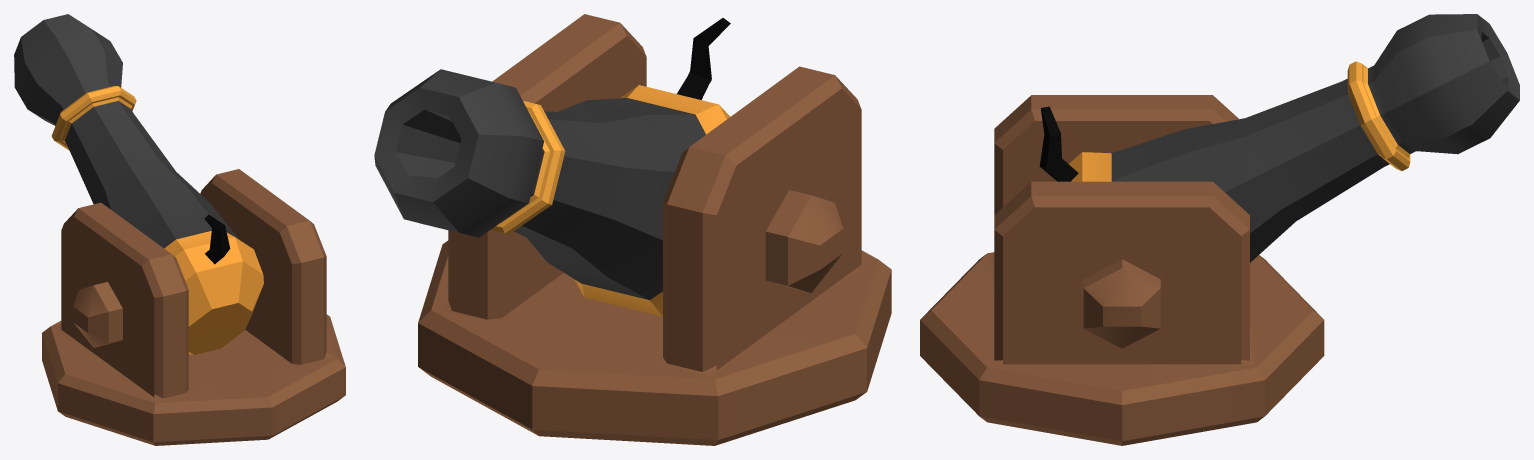
The model's file is Cannon.fbx.
3 renders of one model, left to right at view 1: azimuth 30°, elevation 25°; view 2: azimuth 150°, elevation 25°; view 3: azimuth 270°, elevation 25°, orthographic. The views are drawn at different scales.
Parts seen in each view (by area): view 1: Circle, Circle.001; view 2: Circle, Circle.001; view 3: Circle, Circle.001.
Boxes of the visible parts, x1,y1,x2,y2 form: Circle: (42, 169, 345, 445); Circle.001: (14, 14, 263, 354); Circle: (418, 14, 891, 445); Circle.001: (374, 18, 730, 316); Circle: (920, 95, 1324, 445); Circle.001: (1039, 14, 1519, 262).
Bounding box in the file's own units: 233 × 218 × 345.
